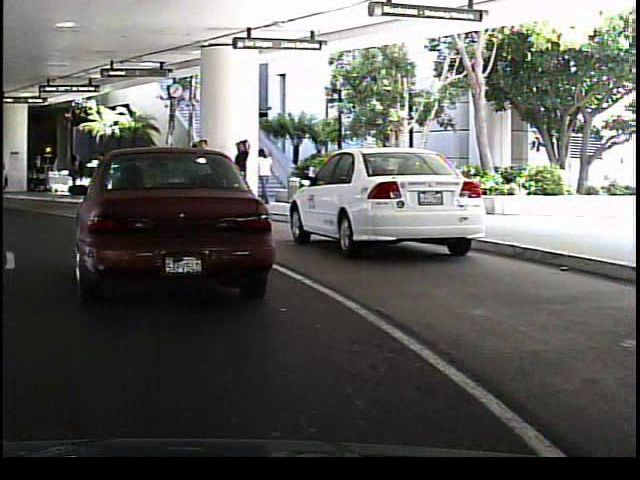person: (186, 134, 213, 208), (228, 134, 251, 211), (64, 149, 84, 202), (82, 156, 106, 196), (257, 145, 273, 201)
